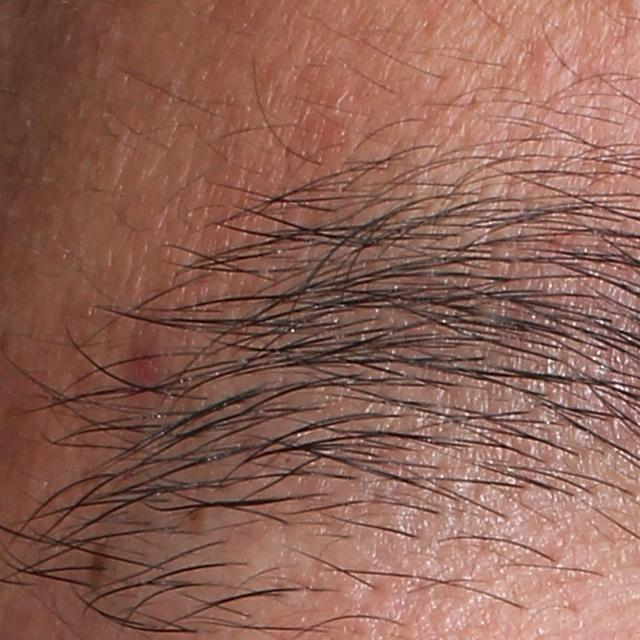nevus: (88, 538, 109, 592)
